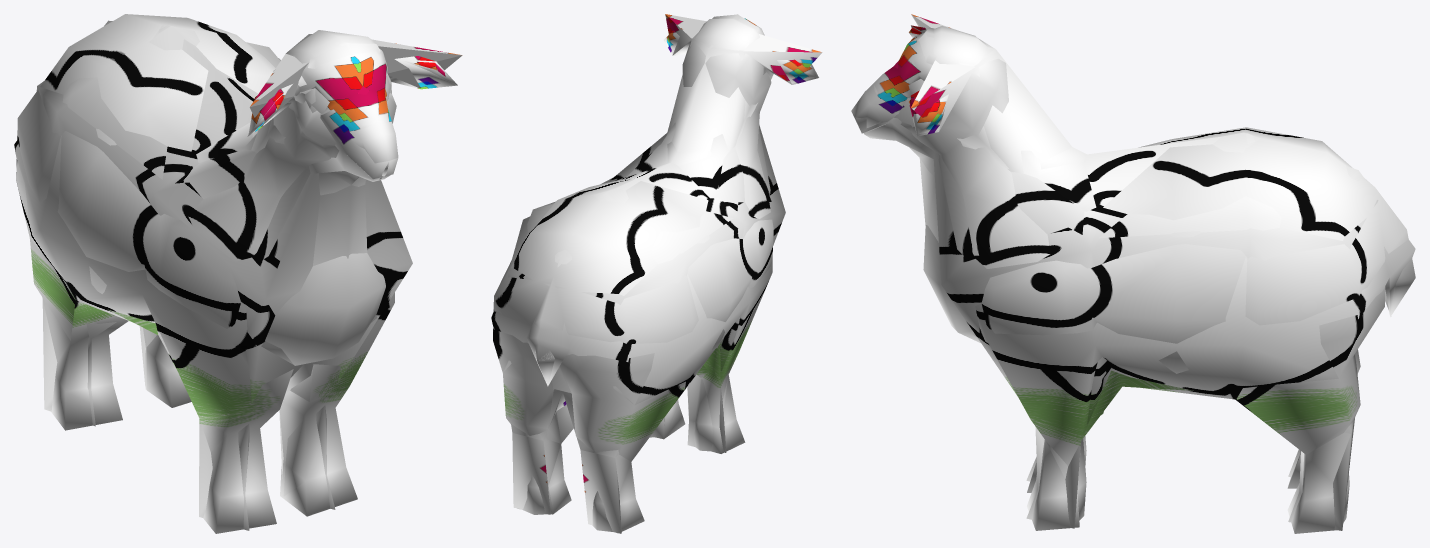
3 views of the same model, side by side, from view 1: azimuth 30°, elevation 25°; view 2: azimuth 150°, elevation 25°; view 3: azimuth 270°, elevation 25° (orthographic). The views are drawn at different scales.
Parts seen in each view (by area): view 1: Editable_Mesh.020, Editable_Mesh.001_Editable_Mesh.022, Editable_Mesh.000_Editable_Mesh.021; view 2: Editable_Mesh.020, Editable_Mesh.001_Editable_Mesh.022, Editable_Mesh.000_Editable_Mesh.021; view 3: Editable_Mesh.020, Editable_Mesh.001_Editable_Mesh.022, Editable_Mesh.000_Editable_Mesh.021.
Boxes of the visible parts, x1=… form: Editable_Mesh.020: x1=16, y1=14, x2=456, y2=496; Editable_Mesh.001_Editable_Mesh.022: x1=14, y1=20, x2=457, y2=533; Editable_Mesh.000_Editable_Mesh.021: x1=36, y1=25, x2=462, y2=530; Editable_Mesh.020: x1=493, y1=18, x2=816, y2=532; Editable_Mesh.001_Editable_Mesh.022: x1=491, y1=14, x2=818, y2=533; Editable_Mesh.000_Editable_Mesh.021: x1=508, y1=14, x2=822, y2=533; Editable_Mesh.020: x1=851, y1=26, x2=1415, y2=522; Editable_Mesh.001_Editable_Mesh.022: x1=868, y1=25, x2=1415, y2=533; Editable_Mesh.000_Editable_Mesh.021: x1=852, y1=14, x2=1388, y2=530.
Size of the model in its own units: 1.09 by 2.04 by 2.23.
